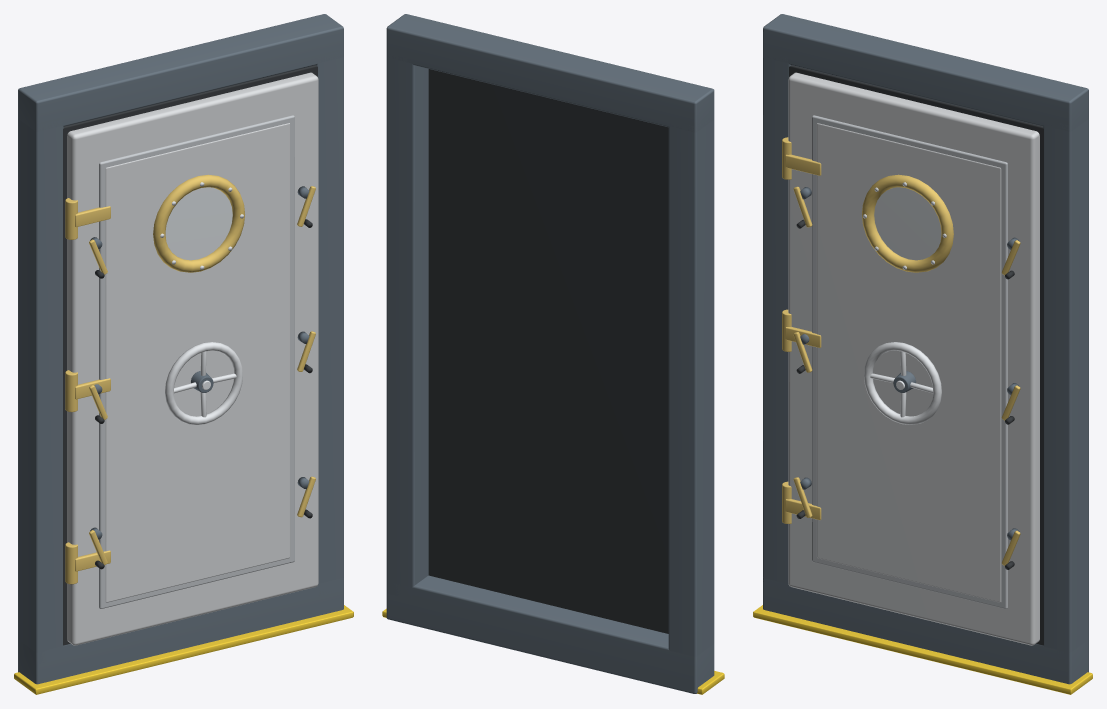
File: watertight-door.glb
3 renders of one model, left to right at view 1: azimuth 30°, elevation 25°; view 2: azimuth 150°, elevation 25°; view 3: azimuth 330°, elevation 25°, orthographic.
Parts seen in each view (by area): view 1: WatertightDoorLeaf, WatertightDoorFrame, WatertightHandwheel; view 2: WatertightDoorFrame; view 3: WatertightDoorLeaf, WatertightDoorFrame, WatertightHandwheel.
Boxes of the visible parts, x1,y1,x2,y2 form: WatertightDoorLeaf: (65, 72, 318, 645); WatertightDoorFrame: (14, 14, 353, 694); WatertightHandwheel: (165, 342, 242, 424); WatertightDoorFrame: (382, 14, 724, 694); WatertightDoorLeaf: (782, 72, 1039, 645); WatertightDoorFrame: (753, 14, 1092, 694); WatertightHandwheel: (864, 342, 941, 424).
Size of the model in its own units: 1.24 by 2.19 by 0.241.
